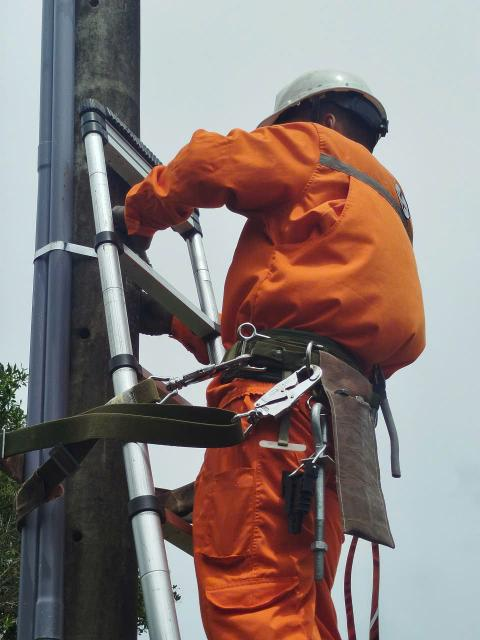gloves: (88, 196, 169, 268), (123, 265, 183, 341)
harness: (209, 286, 394, 428)
helmet: (244, 48, 398, 178)
